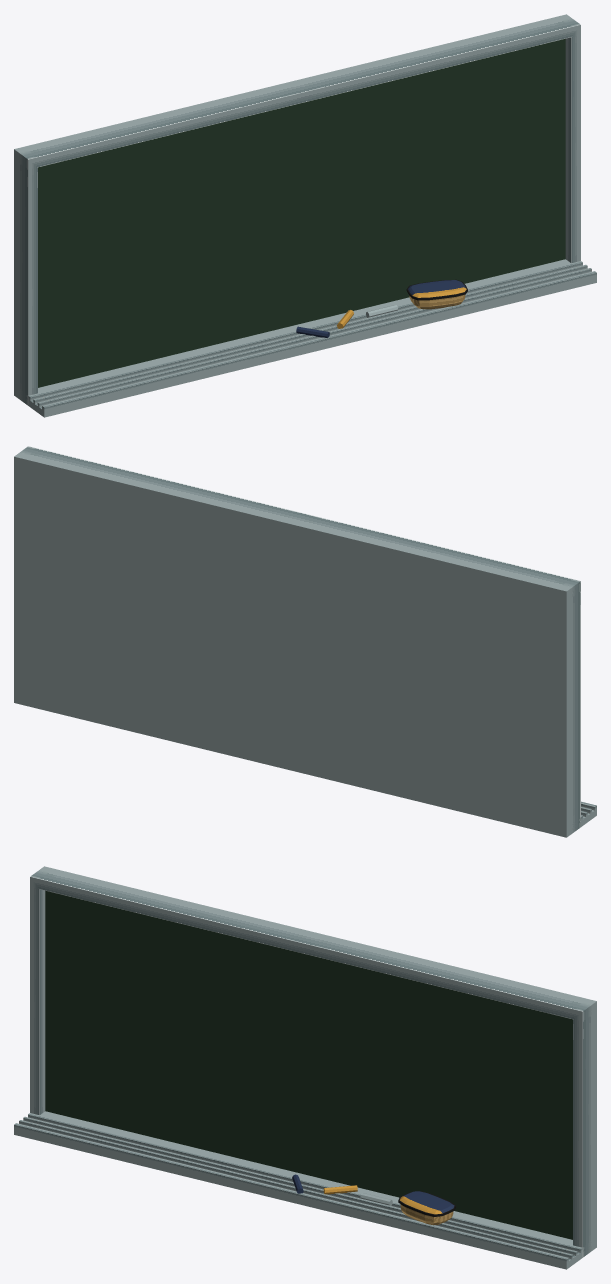
Rendered from blackboard.fbx.
3 views of the same model, one above another, from view 1: azimuth 30°, elevation 25°; view 2: azimuth 150°, elevation 25°; view 3: azimuth 330°, elevation 25° (orthographic).
Visible parts, largest first — view 1: blackboard, eraser; view 2: blackboard; view 3: blackboard, eraser.
Boxes of the visible parts, left/top/right/bottom form: blackboard: left=14, top=14, right=596, bottom=417; eraser: left=406, top=279, right=467, bottom=309; blackboard: left=14, top=446, right=596, bottom=837; blackboard: left=14, top=866, right=596, bottom=1269; eraser: left=398, top=1191, right=455, bottom=1225.
Bounding box in the file's own units: 698 × 297 × 67.48.
Materials: 1 (1 with a texture image).
